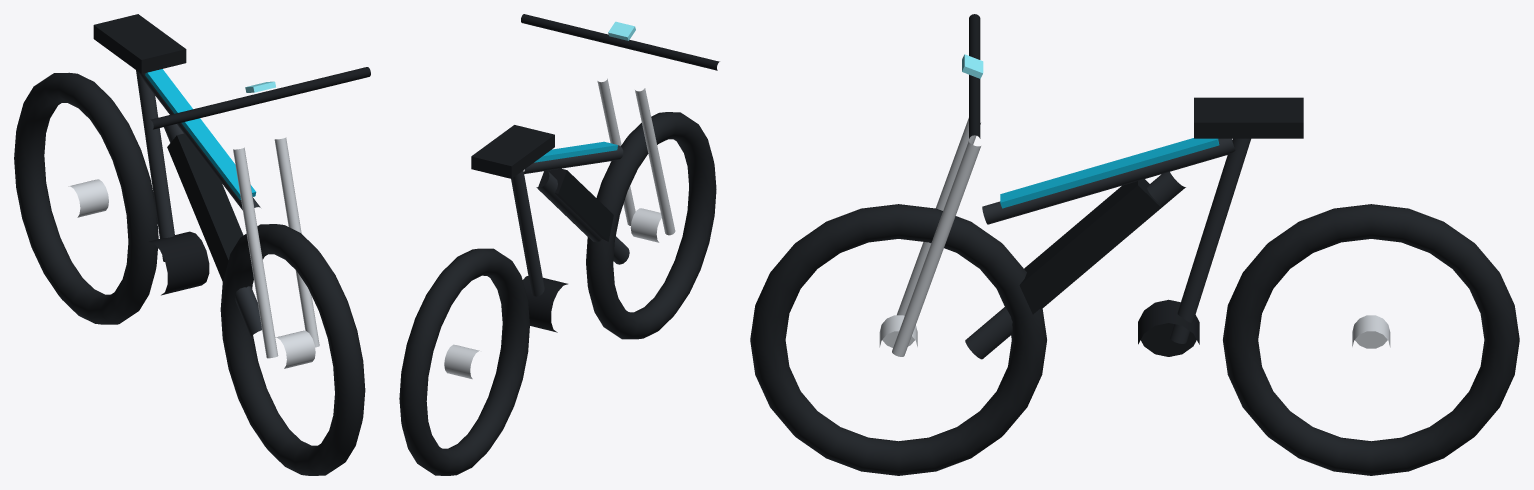
Rendered from panasonic-xm1.glb.
3 views of the same model, side by side, from view 1: azimuth 30°, elevation 25°; view 2: azimuth 150°, elevation 25°; view 3: azimuth 270°, elevation 25° (orthographic). The views are drawn at different scales.
Visible parts, largest first — view 1: RearWheel, FrontWheel, BatteryPack36V, SportSaddle, ForkRight, SeatTube, WideMTBHandlebar, CyanTopStripe, MidDriveMotorUnit, ForkLeft, Downtube, FrontWheelHub (+2 smaller); view 2: RearWheel, FrontWheel, SportSaddle, BatteryPack36V, WideMTBHandlebar, SeatTube, ForkRight, MidDriveMotorUnit, Downtube, SlopingTopTube, ForkLeft, RearWheelHub (+3 smaller); view 3: RearWheel, FrontWheel, BatteryPack36V, SportSaddle, SeatTube, SlopingTopTube, CyanTopStripe, ForkLeft, Downtube, MidDriveMotorUnit, ForkRight, WideMTBHandlebar (+1 smaller).
Boxes of the visible parts, x1,y1,x2,y2 form: RearWheel: (14, 72, 158, 324); FrontWheel: (220, 224, 365, 475); BatteryPack36V: (167, 133, 243, 281); SportSaddle: (93, 14, 186, 73); ForkRight: (233, 147, 278, 358); SeatTube: (136, 70, 174, 261); WideMTBHandlebar: (150, 67, 370, 129); CyanTopStripe: (145, 69, 256, 199); MidDriveMotorUnit: (149, 231, 209, 295); ForkLeft: (274, 137, 319, 347); Downtube: (164, 124, 261, 337); FrontWheelHub: (275, 330, 315, 368); RearWheel: (399, 248, 529, 475); FrontWheel: (586, 112, 716, 339); SportSaddle: (471, 125, 554, 178); BatteryPack36V: (538, 168, 613, 241); WideMTBHandlebar: (521, 14, 719, 70); SeatTube: (511, 170, 544, 296); ForkRight: (635, 88, 675, 235); MidDriveMotorUnit: (522, 276, 567, 332); Downtube: (536, 171, 629, 264); SlopingTopTube: (524, 145, 623, 173); ForkLeft: (597, 78, 635, 225); RearWheelHub: (444, 344, 479, 379); RearWheel: (1223, 204, 1519, 475); FrontWheel: (750, 204, 1046, 475); BatteryPack36V: (1019, 179, 1160, 314); SportSaddle: (1194, 97, 1303, 138); SeatTube: (1170, 138, 1250, 343); SlopingTopTube: (982, 138, 1235, 224); CyanTopStripe: (1000, 138, 1219, 208); ForkLeft: (892, 141, 980, 356); Downtube: (965, 171, 1185, 359); MidDriveMotorUnit: (1138, 299, 1199, 356); ForkRight: (897, 118, 980, 315); WideMTBHandlebar: (969, 14, 980, 138).
Bounding box in the file's own units: 0.68 × 1.08 × 1.82.
